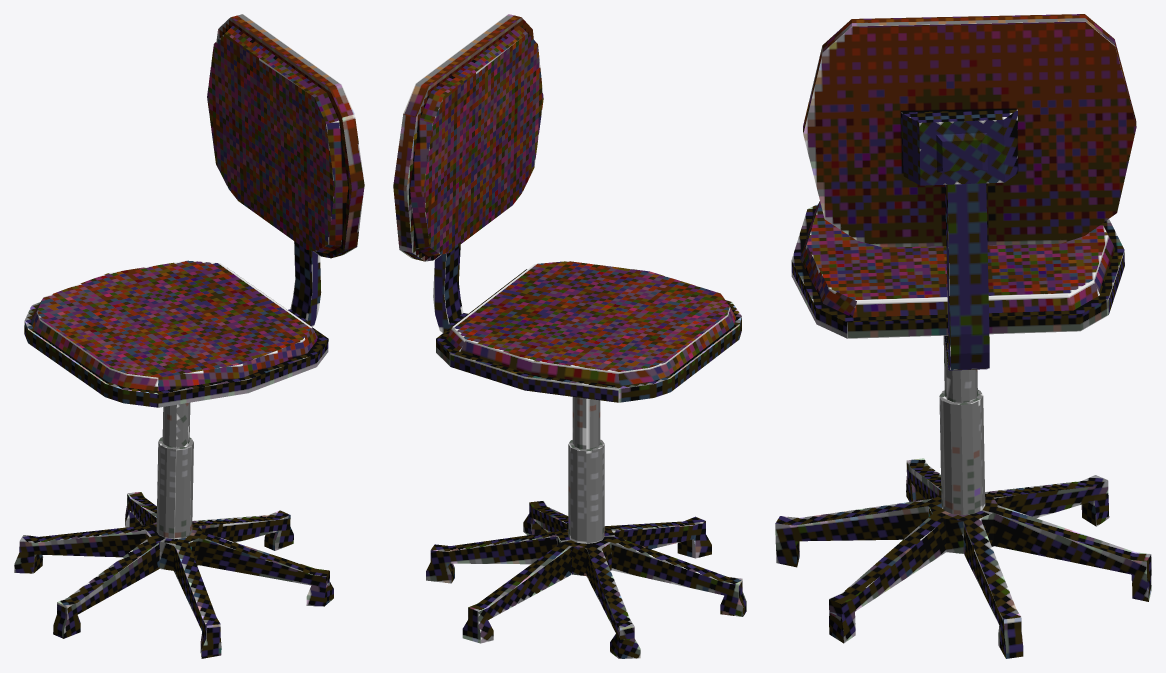
The model's file is Silla.fbx.
The picture shows the model from 3 angles, left to right: view 1: azimuth 30°, elevation 25°; view 2: azimuth 150°, elevation 25°; view 3: azimuth 270°, elevation 25°; orthographic projection. The views are drawn at different scales.
Parts seen in each view (by area): view 1: Silla1; view 2: Silla1; view 3: Silla1.
Part boxes in pixels (x1=…): Silla1: x1=14, y1=14, x2=364, y2=658; Silla1: x1=393, y1=14, x2=746, y2=658; Silla1: x1=775, y1=14, x2=1151, y2=658.
Size of the model in its own units: 2.59 by 4.52 by 2.45.
